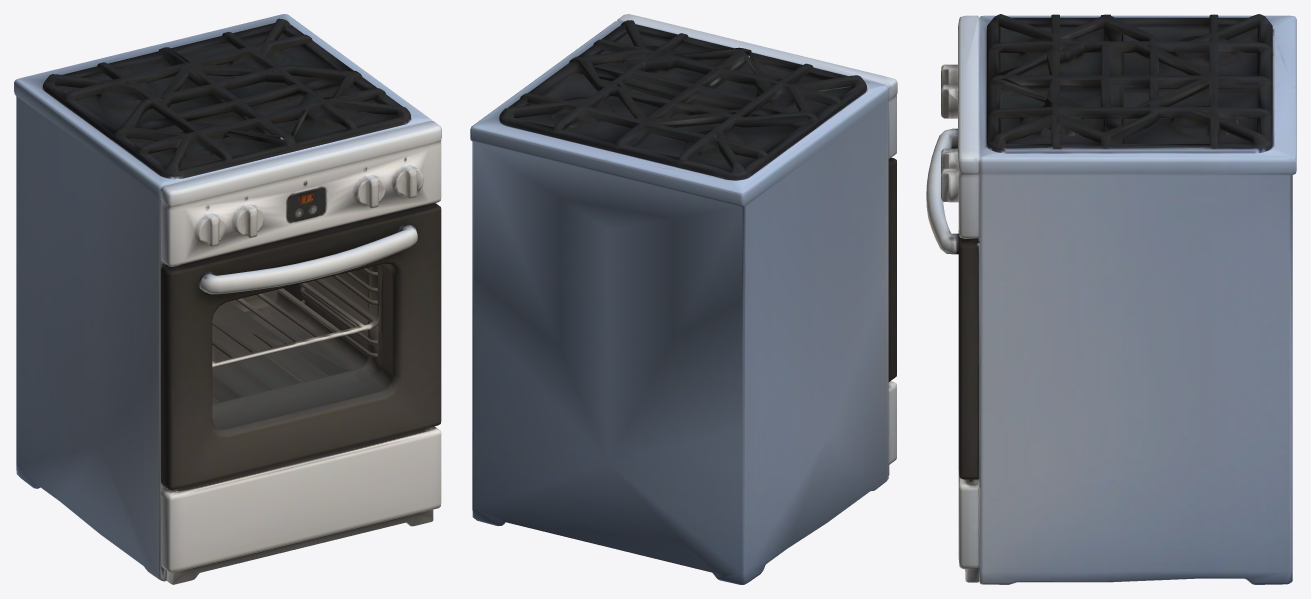
Rendered from oven_everyday_realistic_style_3e9715f0_v2.glb.
3 views of the same model, side by side, from view 1: azimuth 30°, elevation 25°; view 2: azimuth 150°, elevation 25°; view 3: azimuth 270°, elevation 25° (orthographic). The views are drawn at different scales.
Parts seen in each view (by area): view 1: mesh_input; view 2: mesh_input; view 3: mesh_input.
Boxes of the visible parts, <box> form: mesh_input: <box>14,14,441,584</box>; mesh_input: <box>470,14,897,584</box>; mesh_input: <box>926,14,1296,584</box>.
Size of the model in its own units: 1.34 by 1.9 by 1.45.
Materials: 1 (1 with a texture image).
